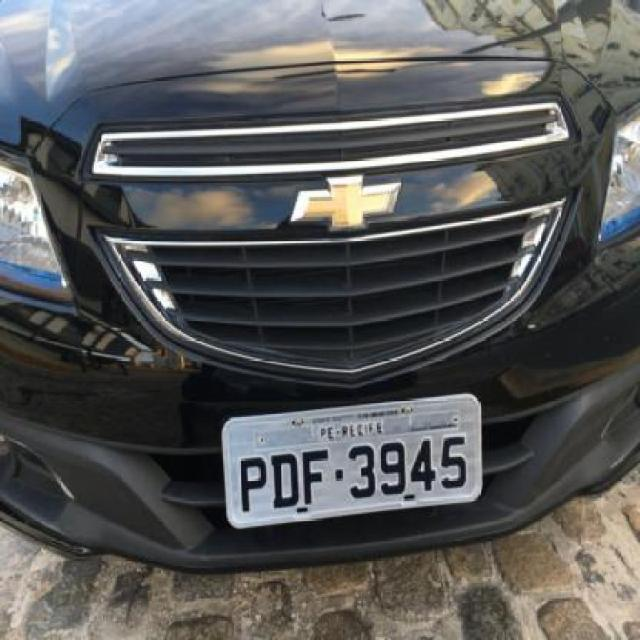old_plate: (216, 390, 489, 536)
